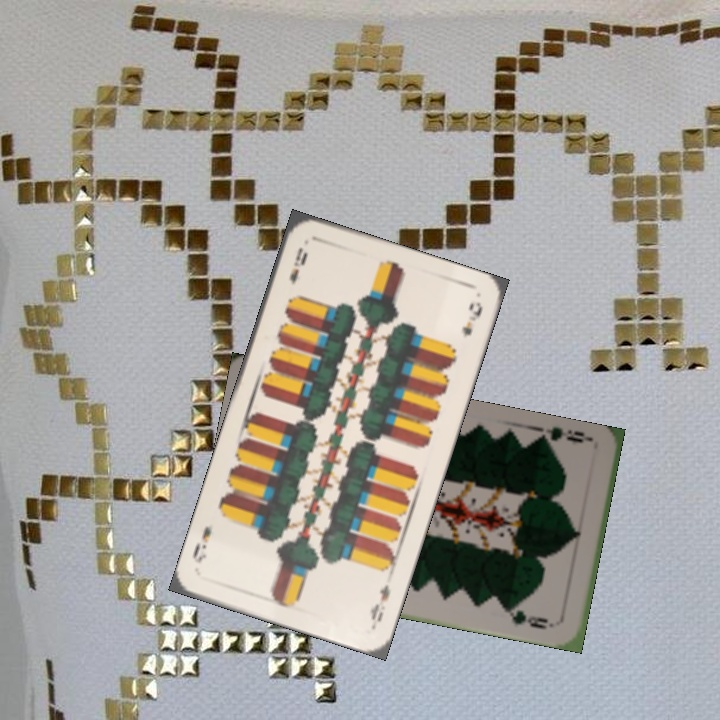E9: (366, 580, 393, 629), (285, 243, 310, 288)
G9: (536, 422, 595, 450)
